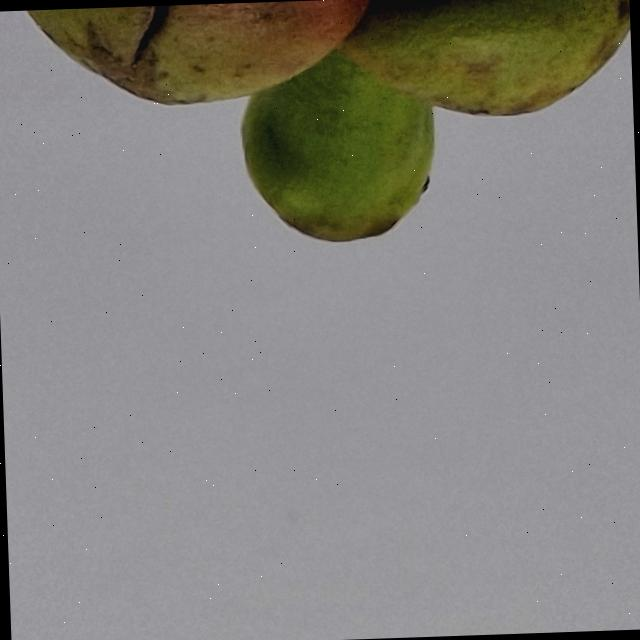mangosteen: (0, 0, 639, 301)
